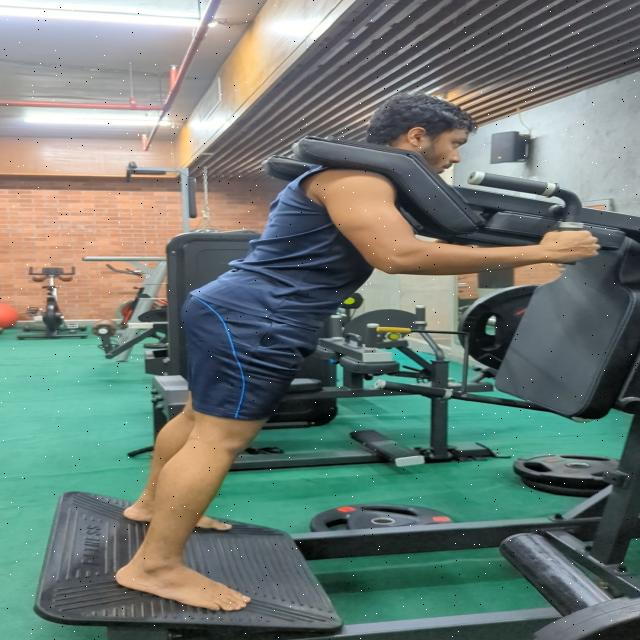Normal_SquatsWithBarbell: (0, 71, 640, 627)
